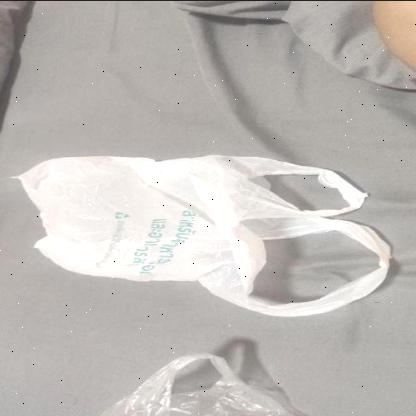Others: (15, 148, 393, 310)
